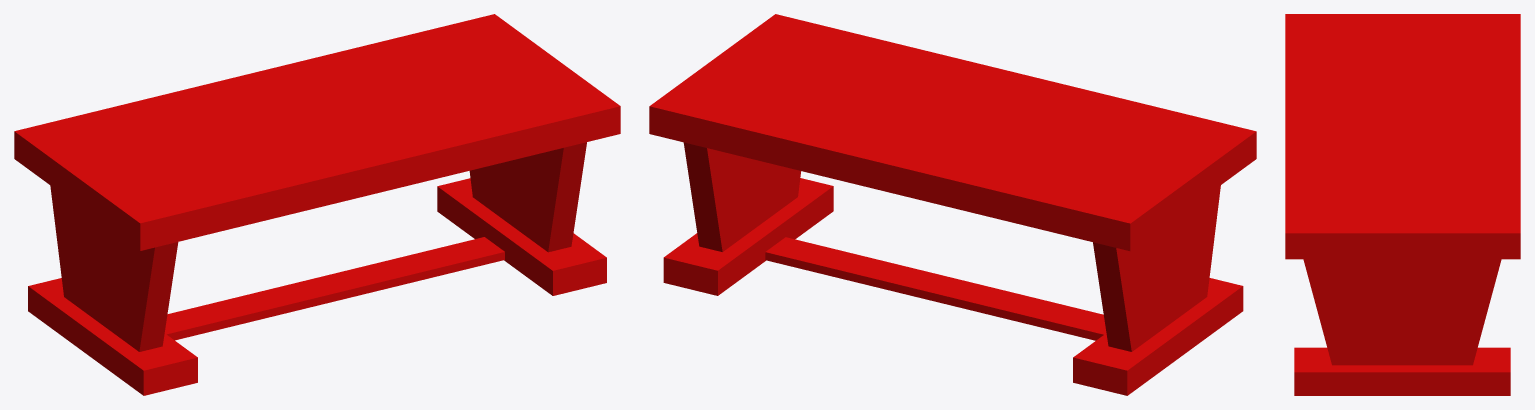
The model's file is Table02Collider.fbx.
3 renders of one model, left to right at view 1: azimuth 30°, elevation 25°; view 2: azimuth 150°, elevation 25°; view 3: azimuth 270°, elevation 25°, orthographic. The views are drawn at different scales.
Visible parts, largest first — view 1: Table02Collision; view 2: Table02Collision; view 3: Table02Collision.
Part boxes in pixels (x1,y1,x2,y2): Table02Collision: (14,14,620,395); Table02Collision: (649,14,1256,395); Table02Collision: (1285,14,1520,395).
Bounding box in the file's own units: 276 × 97.78 × 125.
